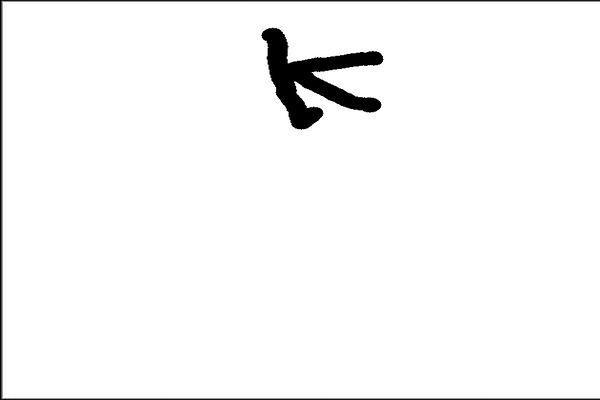K: (248, 18, 393, 136)
